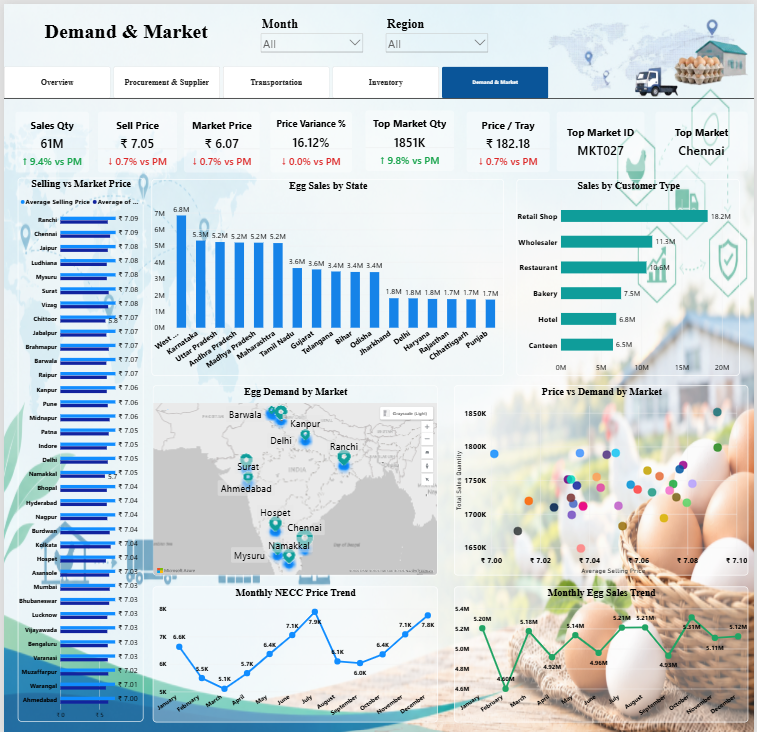

Layout of this report page (visuals, bound fields, positions):
{"tool":"powerbi","page":{"name":"Demand & Market","canvas":[2000,1950],"ordinal":4},"visuals":[{"type":"shape","box":[0,0,2000,250],"z":0,"group":"g1"},{"type":"group","id":"g1","title":"Group 3","box":[0,0,2000,251.4],"z":0,"group":"g2"},{"type":"barChart","title":"Sales by Customer Type","fields":{"Category":["Customers.Customer_Type"],"Y":["Sum(Sales.Quantity_Eggs)"]},"box":[1365,465,595,525],"z":0},{"type":"image","box":[1416.7,0,583.3,250],"z":1000,"group":"g2"},{"type":"shape","title":"Supply Chain Overview","box":[25,20,598.3,105],"z":1000,"group":"g1"},{"type":"cardVisual","fields":{"Data":["Market_Prices.Total Sales Quantity"]},"box":[29.6,285.9,197.2,163.4],"z":1000},{"type":"image","box":[1783.3,80,203.3,156.7],"z":2000,"group":"g2"},{"type":"pageNavigator","box":[0,165.7,1454.3,85.7],"z":2000,"group":"g1"},{"type":"cardVisual","fields":{"Data":["Market_Prices.Average Selling Price"]},"box":[249.3,285.9,212.7,163.4],"z":2000},{"type":"image","box":[1666.7,146.7,140,106.7],"z":3000,"group":"g2"},{"type":"columnChart","title":"Egg Sales by State","fields":{"Category":["Markets.State"],"Y":["Sum(Sales.Quantity_Eggs)"]},"box":[395,465,940,525],"z":3000},{"type":"slicer","fields":{"Values":["Markets.Region"]},"box":[1012.5,32.5,282.5,95],"z":4000,"group":"g1"},{"type":"cardVisual","fields":{"Data":["Market_Prices.Average Market Price"]},"box":[478.9,285.9,202.8,163.4],"z":4000},{"type":"lineChart","title":"Monthly Egg Sales Trend","fields":{"Category":["Weather.Date.Variation.Date Hierarchy.Month"],"Y":["Market_Prices.Total Sales Quantity"]},"box":[1200,1552.5,785,362.5],"z":5000},{"type":"slicer","fields":{"Values":["Weather.Date.Variation.Date Hierarchy.Month"]},"box":[680,32.5,282.5,95],"z":6000,"group":"g1"},{"type":"cardVisual","fields":{"Data":["Market_Prices.Price Variance %"]},"box":[709.9,285.9,218.3,163.4],"z":6000},{"type":"group","id":"g2","title":"Group 4","box":[0,0,2000,253.3],"z":7000},{"type":"cardVisual","fields":{"Data":["Market_Prices.Top Demand Market"]},"box":[1472.5,285,235,160],"z":8000},{"type":"cardVisual","fields":{"Data":["Market_Prices.Top-Demand Market Name"]},"box":[1737.5,285,247.5,160],"z":9000},{"type":"lineChart","title":"Monthly NECC Price Trend","fields":{"Category":["Weather.Date.Variation.Date Hierarchy.Month"],"Y":["Sum(Market_Prices.NECC_Reference_Price_Per_Egg)"]},"box":[395.8,1551.7,760,362.5],"z":10000},{"type":"cardVisual","fields":{"Data":["Market_Prices.Top Market Sales Quantity"]},"box":[962.5,282.5,237.5,162.5],"z":11000},{"type":"clusteredBarChart","title":"Selling vs Market Price","fields":{"Category":["Markets.Market"],"Y":["Market_Prices.Average Selling Price","Avg(Market_Prices.NECC_Reference_Price_Per_Egg)"]},"box":[35.8,464.2,335,1450],"z":12000},{"type":"cardVisual","fields":{"Data":["Avg(Market_Prices.Price_Per_Tray_30)"]},"box":[1232.5,285,222.5,162.5],"z":13000},{"type":"azureMap","title":"Egg Demand by Market","fields":{"Category":["Markets.Market"],"Size":["Sum(Sales.Quantity_Eggs)"]},"box":[395,1017.5,760,507.5],"z":14000},{"type":"scatterChart","title":"Price vs Demand by Market","fields":{"Category":["Markets.Market"],"Series":["Markets.Market"],"X":["Market_Prices.Average Selling Price"],"Y":["Market_Prices.Total Sales Quantity"]},"box":[1200,1017.5,785,507.5],"z":15000},{"type":"shape","box":[0,237.5,2000,30],"z":16000}]}

Visuals, with their boxes in screenshot pixels (x1, y1, x2, y2), scaled from the page's 2000x1950 canvas onto the 757x732 screenshot:
shape: rect(0, 0, 756, 94)
"Group 3" group: rect(0, 0, 756, 94)
"Sales by Customer Type" barChart: rect(517, 175, 742, 372)
image: rect(536, 0, 756, 94)
"Supply Chain Overview" shape: rect(9, 8, 236, 47)
cardVisual - Market_Prices.Total Sales Quantity: rect(11, 107, 86, 169)
image: rect(675, 30, 752, 89)
pageNavigator: rect(0, 62, 550, 94)
cardVisual - Market_Prices.Average Selling Price: rect(94, 107, 175, 169)
image: rect(631, 55, 684, 95)
"Egg Sales by State" columnChart: rect(150, 175, 505, 372)
slicer - Markets.Region: rect(383, 12, 490, 48)
cardVisual - Market_Prices.Average Market Price: rect(181, 107, 258, 169)
"Monthly Egg Sales Trend" lineChart: rect(454, 583, 751, 719)
slicer - Weather.Date.Variation.Date Hierarchy.Month: rect(257, 12, 364, 48)
cardVisual - Market_Prices.Price Variance %: rect(269, 107, 351, 169)
"Group 4" group: rect(0, 0, 756, 95)
cardVisual - Market_Prices.Top Demand Market: rect(557, 107, 646, 167)
cardVisual - Market_Prices.Top-Demand Market Name: rect(658, 107, 751, 167)
"Monthly NECC Price Trend" lineChart: rect(150, 582, 437, 719)
cardVisual - Market_Prices.Top Market Sales Quantity: rect(364, 106, 454, 167)
"Selling vs Market Price" clusteredBarChart: rect(14, 174, 140, 719)
cardVisual - Avg(Market_Prices.Price_Per_Tray_30): rect(467, 107, 551, 168)
"Egg Demand by Market" azureMap: rect(150, 382, 437, 572)
"Price vs Demand by Market" scatterChart: rect(454, 382, 751, 572)
shape: rect(0, 89, 756, 100)
